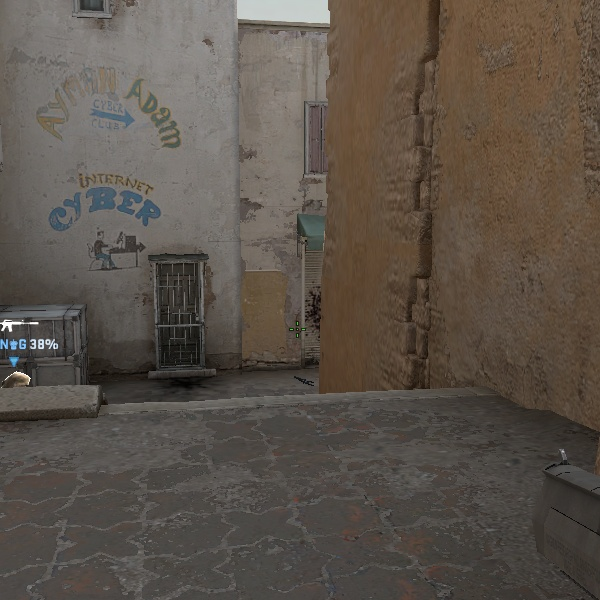ct_head: (1, 366, 33, 387)
